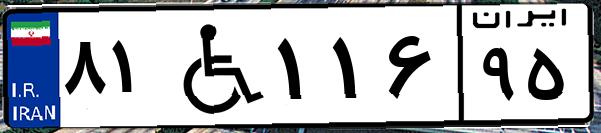1: (270, 28, 330, 110), (330, 28, 385, 110), (110, 28, 158, 98)
5: (525, 38, 570, 115)
6: (385, 28, 445, 110)
8: (57, 26, 110, 100)
9: (475, 38, 525, 113)
ژ (معلولین و جانبازان): (158, 12, 270, 120)
